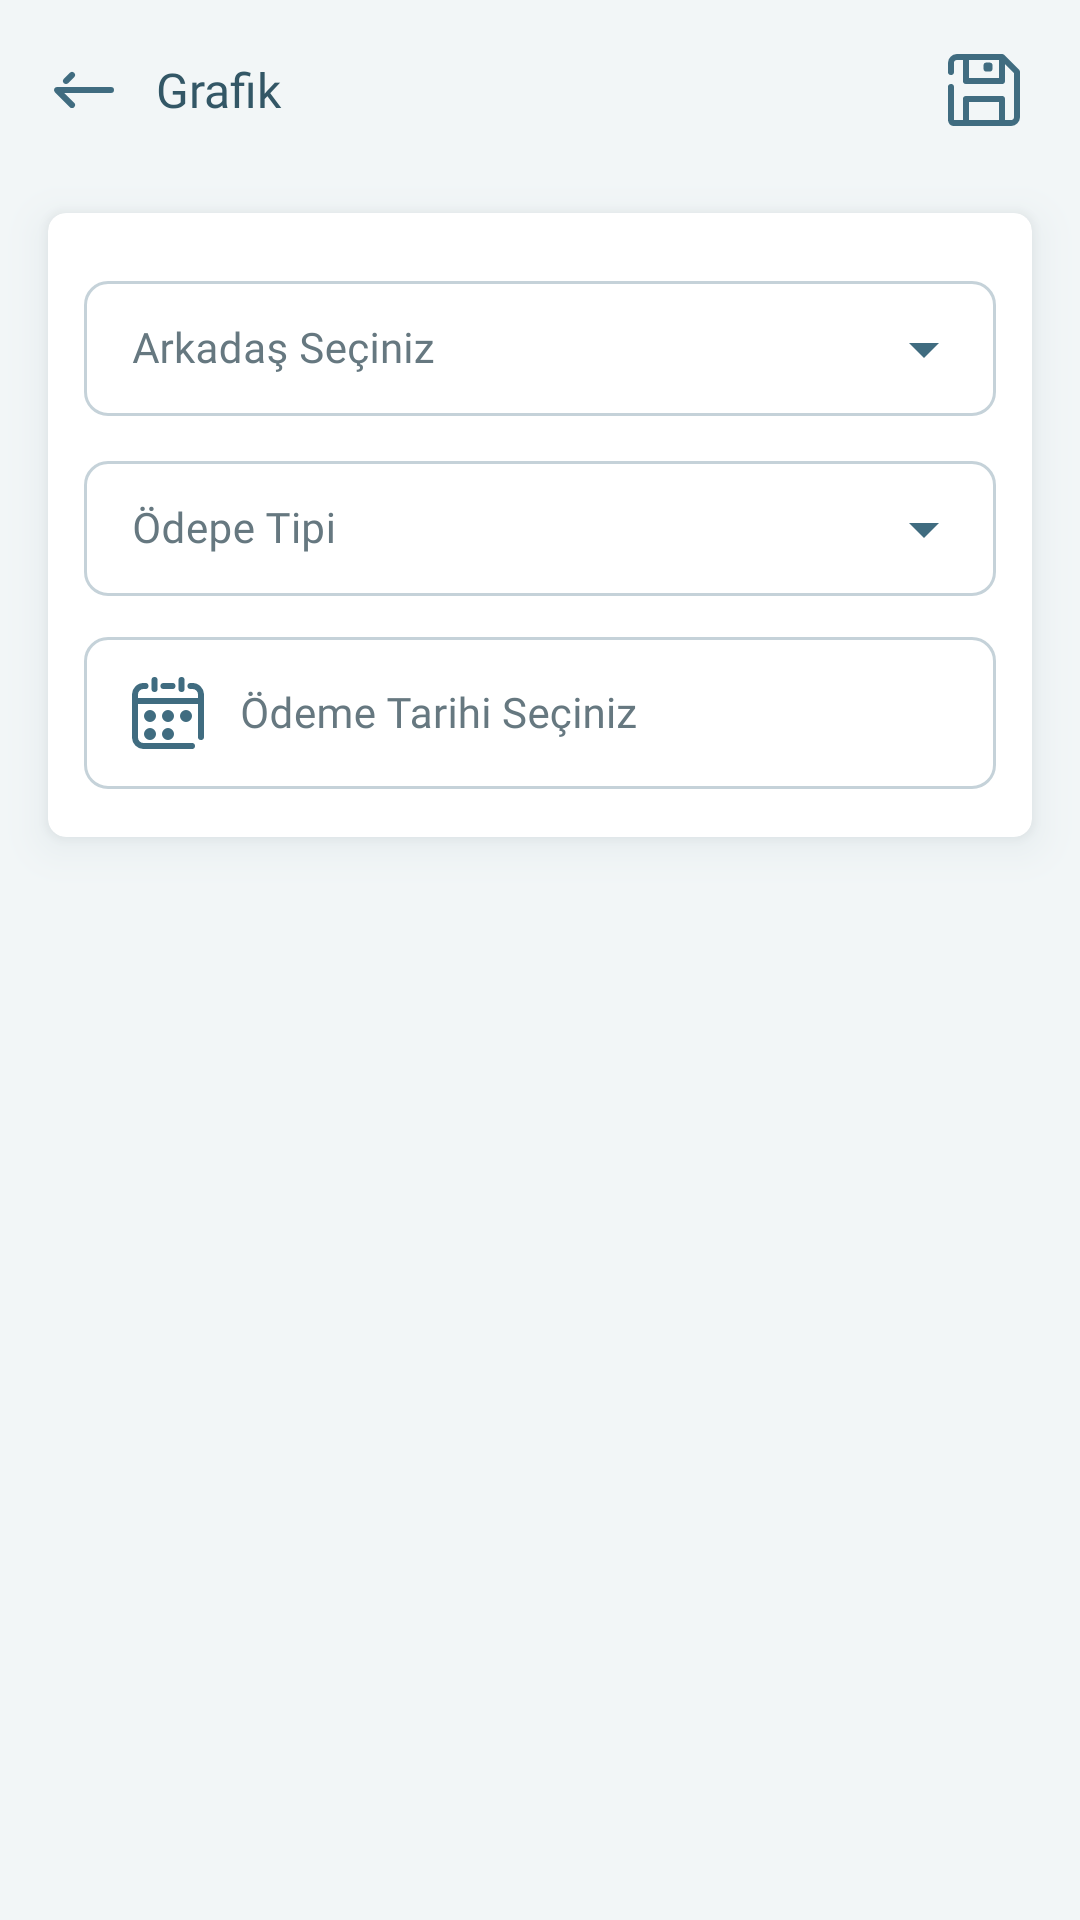

Icons on this 1080px×1920px Android screen, each with the point to tap as [x,y]:
save: [984,90]
